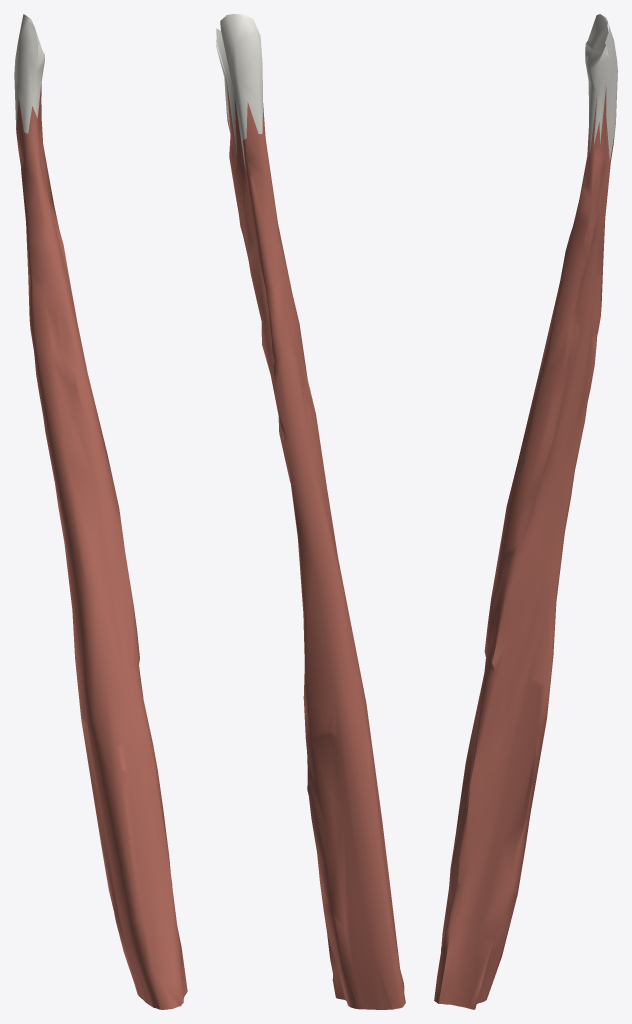
Rendered from extenseur-petit-doigt.glb.
The picture shows the model from 3 angles, left to right: view 1: azimuth 90°, elevation 25°; view 2: azimuth 150°, elevation 25°; view 3: azimuth 270°, elevation 25°; orthographic projection. The views are drawn at different scales.
Visible parts, largest first — view 1: extenseur-petit-doigt; view 2: extenseur-petit-doigt; view 3: extenseur-petit-doigt.
Boxes of the visible parts, x1,y1,x2,y2 form: extenseur-petit-doigt: (14,14,187,1009); extenseur-petit-doigt: (216,14,405,1009); extenseur-petit-doigt: (434,14,617,1009).
Bounding box in the file's own units: 0.0166 × 0.1413 × 0.0233.
